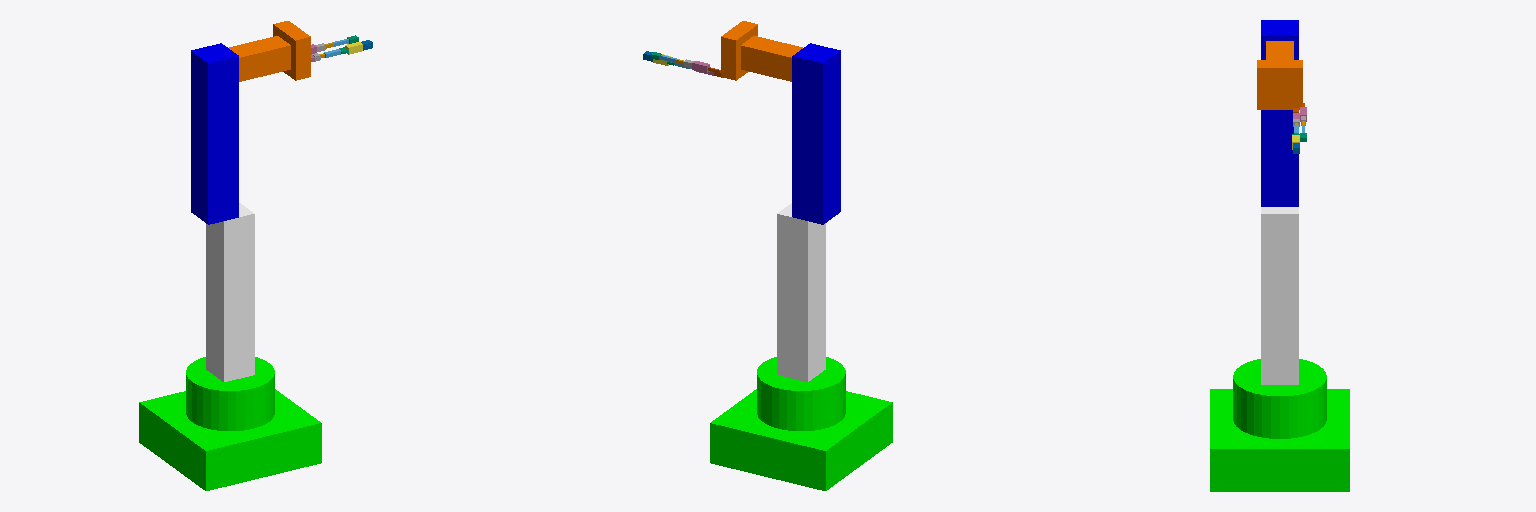
The robot description file, URDF, robot "robot":
<?xml version='1.0' encoding='utf-8'?>
<robot name="robot">
  <link name="base_link">
    <visual>
      <origin xyz="0 0 0.125" rpy="0 0 0" />
      <geometry>
        <box size="0.75 0.75 0.25" />
      </geometry>
      <material name="green" />
    </visual>
    <visual>
      <origin xyz="0 0 0.375" rpy="0 0 0" />
      <geometry>
        <cylinder length="0.25" radius="0.25" />
      </geometry>
      <material name="green">
        <color rgba="0 1 0 1" />
      </material>
    </visual>
    <collision>
      <geometry>
        <box size="0.75 0.75 0.5" />
      </geometry>
    </collision>
    <inertial>
      <mass value="0.5" />
      <inertia ixx="0.034" ixy="0.0" ixz="0.0" iyy="0.034" iyz="0.0" izz="0.034" />
    </inertial>
  </link>
  <link name="support_link">
    <visual>
      <origin xyz="0 0 0.5" rpy="0 0 0" />
      <geometry>
        <box size="0.2 0.2 1" />
      </geometry>
      <material name="white">
        <color rgba="1 1 1 1" />
      </material>
    </visual>
    <collision>
      <geometry>
        <box size="0.2 0.2 1" />
      </geometry>
    </collision>
    <inertial>
      <mass value="0.1" />
      <inertia ixx="0.01" ixy="0.0" ixz="0.0" iyy="0.01" iyz="0.0" izz="0.01" />
    </inertial>
  </link>
  <joint name="support_joint" type="continuous">
    <origin xyz="0 0 0.5" rpy="0 0 0" />
    <parent link="base_link" />
    <child link="support_link" />
    <axis xyz="0 0 1" />
  </joint>
  <link name="arm_link">
    <visual>
      <origin xyz="0 0 0.5" rpy="0 0 0" />
      <geometry>
        <box size="0.2 0.2 1" />
      </geometry>
      <material name="blue">
        <color rgba="0 0 1 1" />
      </material>
    </visual>
    <collision>
      <geometry>
        <box size="0.2 0.2 1" />
      </geometry>
    </collision>
    <inertial>
      <mass value="0.1" />
      <inertia ixx="0.01" ixy="0.0" ixz="0.0" iyy="0.01" iyz="0.0" izz="0.01" />
    </inertial>
  </link>
  <joint name="arm_joint" type="revolute">
    <origin xyz="-0.1 0 1" rpy="0 0 0" />
    <parent link="support_link" />
    <child link="arm_link" />
    <axis xyz="0 1 0" />
    <limit lower="-3.14" upper="3.14" effort="1.0" velocity="1.0" />
  </joint>
  <link name="wrist_link">
    <visual>
      <origin xyz="0 0 0.25" rpy="0 0 0" />
      <geometry>
        <box size="0.15 0.15 0.5" />
      </geometry>
      <material name="orange">
        <color rgba="1 0.5 0 1" />
      </material>
    </visual>
    <collision>
      <geometry>
        <box size="0.15 0.15 0.5" />
      </geometry>
    </collision>
    <inertial>
      <mass value="0.1" />
      <inertia ixx="0.01" ixy="0.0" ixz="0.0" iyy="0.01" iyz="0.0" izz="0.01" />
    </inertial>
  </link>
  <joint name="wrist_joint" type="fixed">
    <origin xyz="0 0 0.9" rpy="0 1.571 0" />
    <parent link="arm_link" />
    <child link="wrist_link" />
  </joint>
  <link name="palm_link">
    <visual>
      <origin xyz="0 0 0.05" rpy="0 0 0" />
      <geometry>
        <box size="0.25 0.25 0.1" />
      </geometry>
      <material name="orange" />
    </visual>
    <collision>
      <geometry>
        <box size="0.25 0.25 0.1" />
      </geometry>
    </collision>
    <inertial>
      <mass value="0.1" />
      <inertia ixx="0.01" ixy="0.0" ixz="0.0" iyy="0.01" iyz="0.0" izz="0.01" />
    </inertial>
  </link>
  <joint name="palm_joint" type="fixed">
    <origin xyz="0 0 0.45" rpy="0 0 0" />
    <parent link="wrist_link" />
    <child link="palm_link" />
  </joint>
  <link name="finger_link_0_0">
    <visual>
      <origin xyz="0 0 0.027" rpy="0 0 0" />
      <geometry>
        <box size="0.029 0.032 0.054" />
      </geometry>
    </visual>
    <collision>
      <geometry>
        <box size="0.029 0.032 0.054" />
      </geometry>
    </collision>
    <inertial>
      <mass value="0.015" />
      <inertia ixx="0.0" iyy="0.0" izz="0.0" ixy="0" ixz="0" iyz="0" />
    </inertial>
  </link>
  <joint name="finger_joint_palm_link_to_finger_link_0_0" type="revolute">
    <origin xyz="0.125 0.087 0.1" rpy="0 0 0" />
    <parent link="palm_link" />
    <child link="finger_link_0_0" />
    <axis xyz="0.0 1.0 0.0" />
    <limit lower="-3.142" upper="3.142" effort="10" velocity="10" />
  </joint>
  <link name="finger_link_0_1">
    <visual>
      <origin xyz="0 0 0.043" rpy="0 0 0" />
      <geometry>
        <box size="0.025 0.04 0.086" />
      </geometry>
    </visual>
    <collision>
      <geometry>
        <box size="0.025 0.04 0.086" />
      </geometry>
    </collision>
    <inertial>
      <mass value="0.026" />
      <inertia ixx="0.0" iyy="0.0" izz="0.0" ixy="0" ixz="0" iyz="0" />
    </inertial>
  </link>
  <joint name="finger_joint_finger_link_0_0_to_finger_link_0_1" type="revolute">
    <origin xyz="0.0 0.0 0.054" rpy="0 0 0" />
    <parent link="finger_link_0_0" />
    <child link="finger_link_0_1" />
    <axis xyz="1.0 0.0 0.0" />
    <limit lower="-3.142" upper="3.142" effort="10" velocity="10" />
  </joint>
  <link name="finger_link_0_2">
    <visual>
      <origin xyz="0 0 0.0175" rpy="0 0 0" />
      <geometry>
        <box size="0.031 0.037 0.035" />
      </geometry>
    </visual>
    <collision>
      <geometry>
        <box size="0.031 0.037 0.035" />
      </geometry>
    </collision>
    <inertial>
      <mass value="0.012" />
      <inertia ixx="0.0" iyy="0.0" izz="0.0" ixy="0" ixz="0" iyz="0" />
    </inertial>
  </link>
  <joint name="finger_joint_finger_link_0_1_to_finger_link_0_2" type="revolute">
    <origin xyz="0.0 0.0 0.086" rpy="0 0 0" />
    <parent link="finger_link_0_1" />
    <child link="finger_link_0_2" />
    <axis xyz="1.0 0.0 0.0" />
    <limit lower="-3.142" upper="3.142" effort="10" velocity="10" />
  </joint>
  <link name="finger_link_0_3">
    <visual>
      <origin xyz="0 0 0.018" rpy="0 0 0" />
      <geometry>
        <box size="0.019 0.016 0.036" />
      </geometry>
    </visual>
    <collision>
      <geometry>
        <box size="0.019 0.016 0.036" />
      </geometry>
    </collision>
    <inertial>
      <mass value="0.003" />
      <inertia ixx="0.0" iyy="0.0" izz="0.0" ixy="0" ixz="0" iyz="0" />
    </inertial>
  </link>
  <joint name="finger_joint_finger_link_0_2_to_finger_link_0_3" type="revolute">
    <origin xyz="0.0 0.0 0.035" rpy="0 0 0" />
    <parent link="finger_link_0_2" />
    <child link="finger_link_0_3" />
    <axis xyz="1.0 0.0 0.0" />
    <limit lower="-3.142" upper="3.142" effort="10" velocity="10" />
  </joint>
  <link name="finger_link_0_4">
    <visual>
      <origin xyz="0 0 0.05" rpy="0 0 0" />
      <geometry>
        <box size="0.023 0.029 0.1" />
      </geometry>
    </visual>
    <collision>
      <geometry>
        <box size="0.023 0.029 0.1" />
      </geometry>
    </collision>
    <inertial>
      <mass value="0.02" />
      <inertia ixx="0.0" iyy="0.0" izz="0.0" ixy="0" ixz="0" iyz="0" />
    </inertial>
  </link>
  <joint name="finger_joint_finger_link_0_3_to_finger_link_0_4" type="revolute">
    <origin xyz="0.0 0.0 0.036" rpy="0 0 0" />
    <parent link="finger_link_0_3" />
    <child link="finger_link_0_4" />
    <axis xyz="0.0 1.0 0.0" />
    <limit lower="-3.142" upper="3.142" effort="10" velocity="10" />
  </joint>
  <link name="finger_link_0_5">
    <visual>
      <origin xyz="0 0 0.0215" rpy="0 0 0" />
      <geometry>
        <box size="0.014 0.049 0.043" />
      </geometry>
    </visual>
    <collision>
      <geometry>
        <box size="0.014 0.049 0.043" />
      </geometry>
    </collision>
    <inertial>
      <mass value="0.009" />
      <inertia ixx="0.0" iyy="0.0" izz="0.0" ixy="0" ixz="0" iyz="0" />
    </inertial>
  </link>
  <joint name="finger_joint_finger_link_0_4_to_finger_link_0_5" type="revolute">
    <origin xyz="0.0 0.0 0.1" rpy="0 0 0" />
    <parent link="finger_link_0_4" />
    <child link="finger_link_0_5" />
    <axis xyz="0.0 1.0 0.0" />
    <limit lower="-3.142" upper="3.142" effort="10" velocity="10" />
  </joint>
  <link name="finger_link_0_6">
    <visual>
      <origin xyz="0 0 0.047" rpy="0 0 0" />
      <geometry>
        <box size="0.044 0.042 0.094" />
      </geometry>
    </visual>
    <collision>
      <geometry>
        <box size="0.044 0.042 0.094" />
      </geometry>
    </collision>
    <inertial>
      <mass value="0.052" />
      <inertia ixx="0.0" iyy="0.0" izz="0.0" ixy="0" ixz="0" iyz="0" />
    </inertial>
  </link>
  <joint name="finger_joint_finger_link_0_5_to_finger_link_0_6" type="revolute">
    <origin xyz="0.0 0.0 0.043" rpy="0 0 0" />
    <parent link="finger_link_0_5" />
    <child link="finger_link_0_6" />
    <axis xyz="1.0 0.0 0.0" />
    <limit lower="-3.142" upper="3.142" effort="10" velocity="10" />
  </joint>
  <link name="finger_link_0_7">
    <visual>
      <origin xyz="0 0 0.032" rpy="0 0 0" />
      <geometry>
        <box size="0.037 0.04 0.064" />
      </geometry>
    </visual>
    <collision>
      <geometry>
        <box size="0.037 0.04 0.064" />
      </geometry>
    </collision>
    <inertial>
      <mass value="0.028" />
      <inertia ixx="0.0" iyy="0.0" izz="0.0" ixy="0" ixz="0" iyz="0" />
    </inertial>
  </link>
  <joint name="finger_joint_finger_link_0_6_to_finger_link_0_7" type="revolute">
    <origin xyz="0.0 0.0 0.094" rpy="0 0 0" />
    <parent link="finger_link_0_6" />
    <child link="finger_link_0_7" />
    <axis xyz="0.0 1.0 0.0" />
    <limit lower="-3.142" upper="3.142" effort="10" velocity="10" />
  </joint>
  <link name="finger_link_1_0">
    <visual>
      <origin xyz="0 0 0.0395" rpy="0 0 0" />
      <geometry>
        <box size="0.017 0.011 0.079" />
      </geometry>
    </visual>
    <collision>
      <geometry>
        <box size="0.017 0.011 0.079" />
      </geometry>
    </collision>
    <inertial>
      <mass value="0.004" />
      <inertia ixx="0.0" iyy="0.0" izz="0.0" ixy="0" ixz="0" iyz="0" />
    </inertial>
  </link>
  <joint name="finger_joint_palm_link_to_finger_link_1_0" type="revolute">
    <origin xyz="0.092 0.125 0.1" rpy="0 0 0" />
    <parent link="palm_link" />
    <child link="finger_link_1_0" />
    <axis xyz="-1.0 0.0 0.0" />
    <limit lower="-3.142" upper="3.142" effort="10" velocity="10" />
  </joint>
  <link name="finger_link_1_1">
    <visual>
      <origin xyz="0 0 0.0475" rpy="0 0 0" />
      <geometry>
        <box size="0.044 0.038 0.095" />
      </geometry>
    </visual>
    <collision>
      <geometry>
        <box size="0.044 0.038 0.095" />
      </geometry>
    </collision>
    <inertial>
      <mass value="0.048" />
      <inertia ixx="0.0" iyy="0.0" izz="0.0" ixy="0" ixz="0" iyz="0" />
    </inertial>
  </link>
  <joint name="finger_joint_finger_link_1_0_to_finger_link_1_1" type="revolute">
    <origin xyz="0.0 0.0 0.079" rpy="0 0 0" />
    <parent link="finger_link_1_0" />
    <child link="finger_link_1_1" />
    <axis xyz="0.0 1.0 0.0" />
    <limit lower="-3.142" upper="3.142" effort="10" velocity="10" />
  </joint>
  <link name="finger_link_1_2">
    <visual>
      <origin xyz="0 0 0.0295" rpy="0 0 0" />
      <geometry>
        <box size="0.033 0.03 0.059" />
      </geometry>
    </visual>
    <collision>
      <geometry>
        <box size="0.033 0.03 0.059" />
      </geometry>
    </collision>
    <inertial>
      <mass value="0.018" />
      <inertia ixx="0.0" iyy="0.0" izz="0.0" ixy="0" ixz="0" iyz="0" />
    </inertial>
  </link>
  <joint name="finger_joint_finger_link_1_1_to_finger_link_1_2" type="revolute">
    <origin xyz="0.0 0.0 0.095" rpy="0 0 0" />
    <parent link="finger_link_1_1" />
    <child link="finger_link_1_2" />
    <axis xyz="0.0 1.0 0.0" />
    <limit lower="-3.142" upper="3.142" effort="10" velocity="10" />
  </joint>
  <link name="finger_link_1_3">
    <visual>
      <origin xyz="0 0 0.0285" rpy="0 0 0" />
      <geometry>
        <box size="0.022 0.015 0.057" />
      </geometry>
    </visual>
    <collision>
      <geometry>
        <box size="0.022 0.015 0.057" />
      </geometry>
    </collision>
    <inertial>
      <mass value="0.006" />
      <inertia ixx="0.0" iyy="0.0" izz="0.0" ixy="0" ixz="0" iyz="0" />
    </inertial>
  </link>
  <joint name="finger_joint_finger_link_1_2_to_finger_link_1_3" type="revolute">
    <origin xyz="0.0 0.0 0.059" rpy="0 0 0" />
    <parent link="finger_link_1_2" />
    <child link="finger_link_1_3" />
    <axis xyz="1.0 0.0 0.0" />
    <limit lower="-3.142" upper="3.142" effort="10" velocity="10" />
  </joint>
  <link name="finger_link_1_4">
    <visual>
      <origin xyz="0 0 0.0495" rpy="0 0 0" />
      <geometry>
        <box size="0.023 0.017 0.099" />
      </geometry>
    </visual>
    <collision>
      <geometry>
        <box size="0.023 0.017 0.099" />
      </geometry>
    </collision>
    <inertial>
      <mass value="0.012" />
      <inertia ixx="0.0" iyy="0.0" izz="0.0" ixy="0" ixz="0" iyz="0" />
    </inertial>
  </link>
  <joint name="finger_joint_finger_link_1_3_to_finger_link_1_4" type="revolute">
    <origin xyz="0.0 0.0 0.057" rpy="0 0 0" />
    <parent link="finger_link_1_3" />
    <child link="finger_link_1_4" />
    <axis xyz="0.0 1.0 0.0" />
    <limit lower="-3.142" upper="3.142" effort="10" velocity="10" />
  </joint>
  <link name="finger_link_1_5">
    <visual>
      <origin xyz="0 0 0.028" rpy="0 0 0" />
      <geometry>
        <box size="0.027 0.036 0.056" />
      </geometry>
    </visual>
    <collision>
      <geometry>
        <box size="0.027 0.036 0.056" />
      </geometry>
    </collision>
    <inertial>
      <mass value="0.016" />
      <inertia ixx="0.0" iyy="0.0" izz="0.0" ixy="0" ixz="0" iyz="0" />
    </inertial>
  </link>
  <joint name="finger_joint_finger_link_1_4_to_finger_link_1_5" type="revolute">
    <origin xyz="0.0 0.0 0.099" rpy="0 0 0" />
    <parent link="finger_link_1_4" />
    <child link="finger_link_1_5" />
    <axis xyz="1.0 0.0 0.0" />
    <limit lower="-3.142" upper="3.142" effort="10" velocity="10" />
  </joint>
</robot>

--- Render facts (derived) ---
The picture shows the robot from 3 angles, left to right: view 1: azimuth 30°, elevation 25°; view 2: azimuth 150°, elevation 25°; view 3: azimuth 270°, elevation 25°; orthographic projection.
Model robot with 19 links and 18 joints (15 revolute, 1 continuous, 2 fixed), rooted at base_link, posed every joint at zero.
Links seen in each view (by area): view 1: base_link, arm_link, support_link, wrist_link, palm_link; view 2: base_link, arm_link, support_link, wrist_link, palm_link; view 3: base_link, support_link, arm_link, palm_link, wrist_link.
Link boxes in pixels (x1=…): base_link: x1=139, y1=357, x2=321, y2=490; arm_link: x1=191, y1=43, x2=238, y2=224; support_link: x1=206, y1=203, x2=254, y2=381; wrist_link: x1=229, y1=36, x2=290, y2=81; palm_link: x1=273, y1=21, x2=310, y2=80; base_link: x1=710, y1=357, x2=892, y2=490; arm_link: x1=792, y1=43, x2=840, y2=224; support_link: x1=777, y1=203, x2=825, y2=381; wrist_link: x1=741, y1=36, x2=802, y2=81; palm_link: x1=721, y1=21, x2=757, y2=80; base_link: x1=1210, y1=359, x2=1349, y2=491; support_link: x1=1261, y1=207, x2=1298, y2=384; arm_link: x1=1261, y1=20, x2=1298, y2=206; palm_link: x1=1257, y1=60, x2=1302, y2=109; wrist_link: x1=1266, y1=41, x2=1293, y2=59.
Size in the robot's own frame: 1.34 by 0.75 by 2.52 metres.
Geometry: primitives only (box / cylinder / sphere), no mesh files.